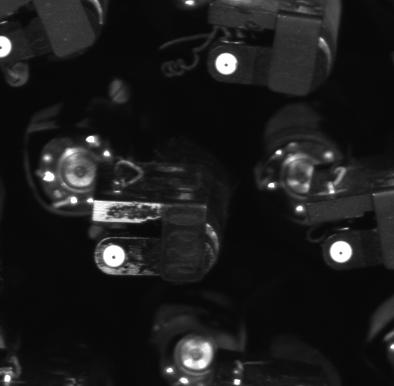fiber: (211, 48, 242, 78), (326, 238, 356, 265), (100, 242, 129, 269), (1, 27, 17, 66)
